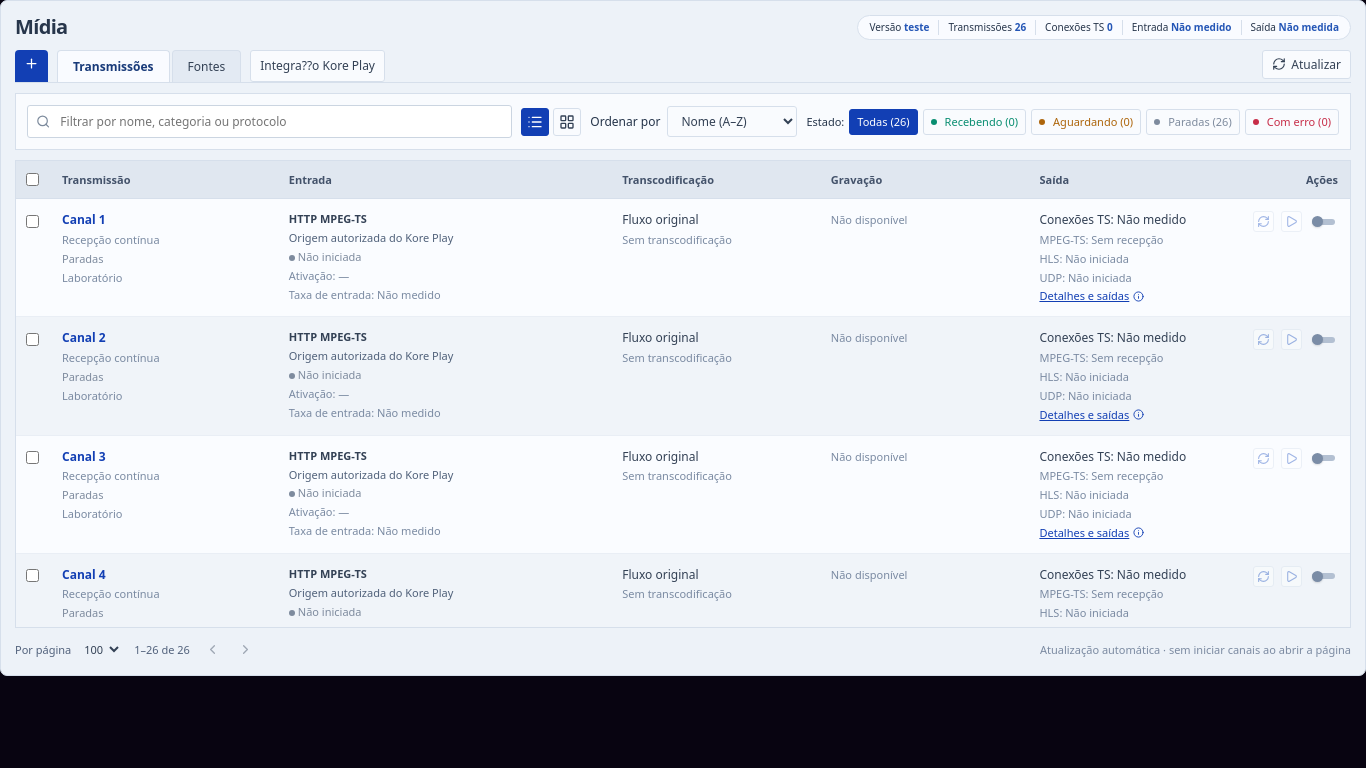
Test: limits page selection to visible rows and provides card view with the same filters
The image size is (1366, 768).
Select "25" in the dropdown named "Transmissões por página": (100, 650) [77, 638, 122, 661]
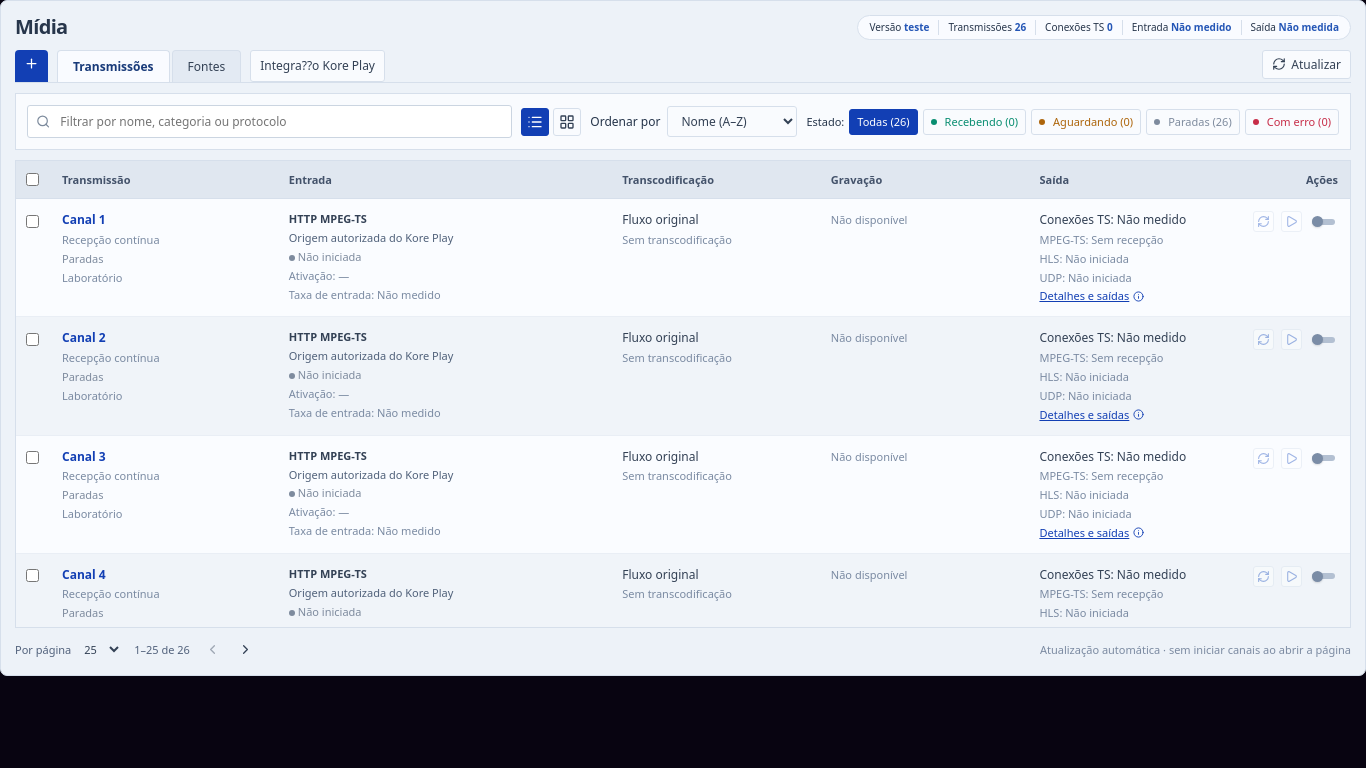
Click the button named "Próxima página": (245, 650) [235, 639, 256, 660]
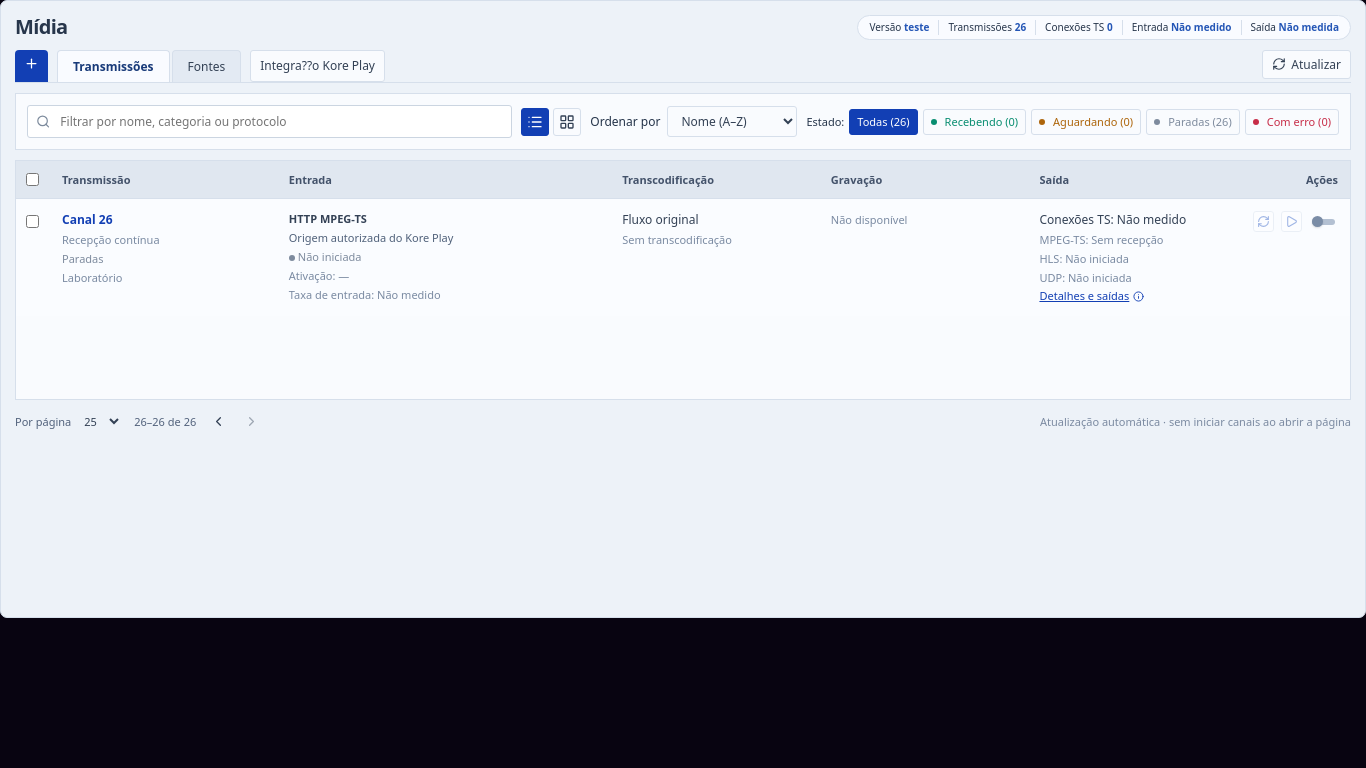
Expected: the number of checkboxes is 2, [26, 173, 39, 186]; [26, 215, 39, 228]
In the field named "Filtrar transmissões": (280, 122) [57, 110, 503, 133], type "Canal 26"
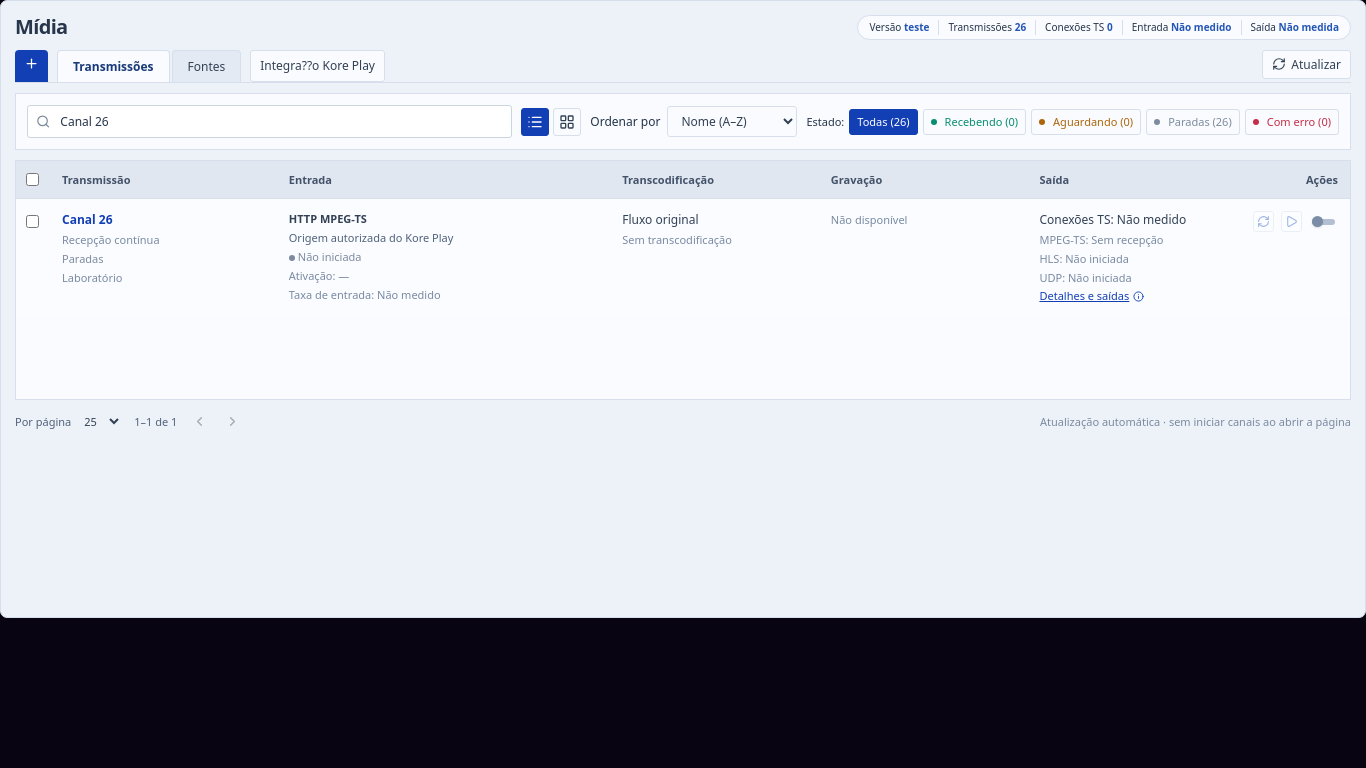
Expected: the number of checkboxes is 2, [26, 173, 39, 186]; [26, 215, 39, 228]
Click the button named "Visualização em cartões": (567, 122) [553, 108, 581, 136]
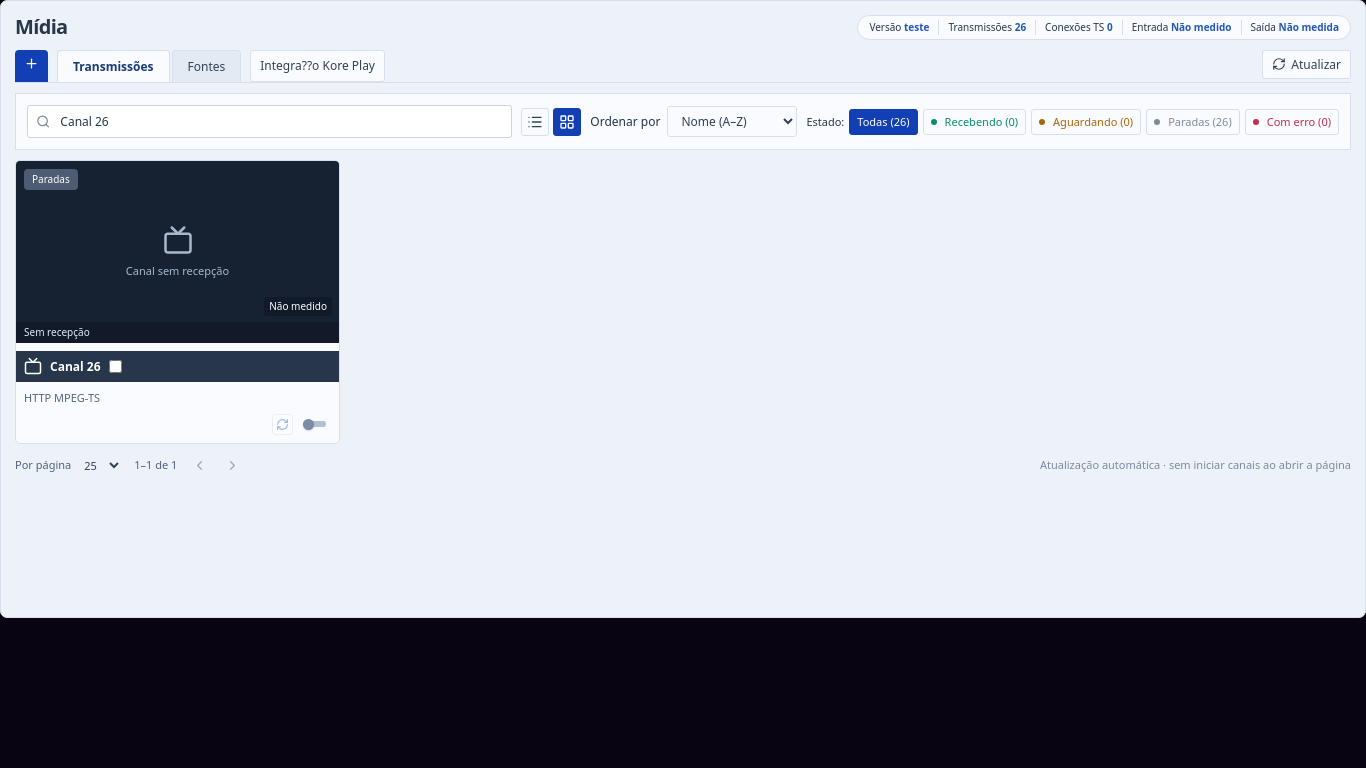
Expected: the button "Canal 26" is shown, [50, 358, 100, 375]
Expected: the table is gone
